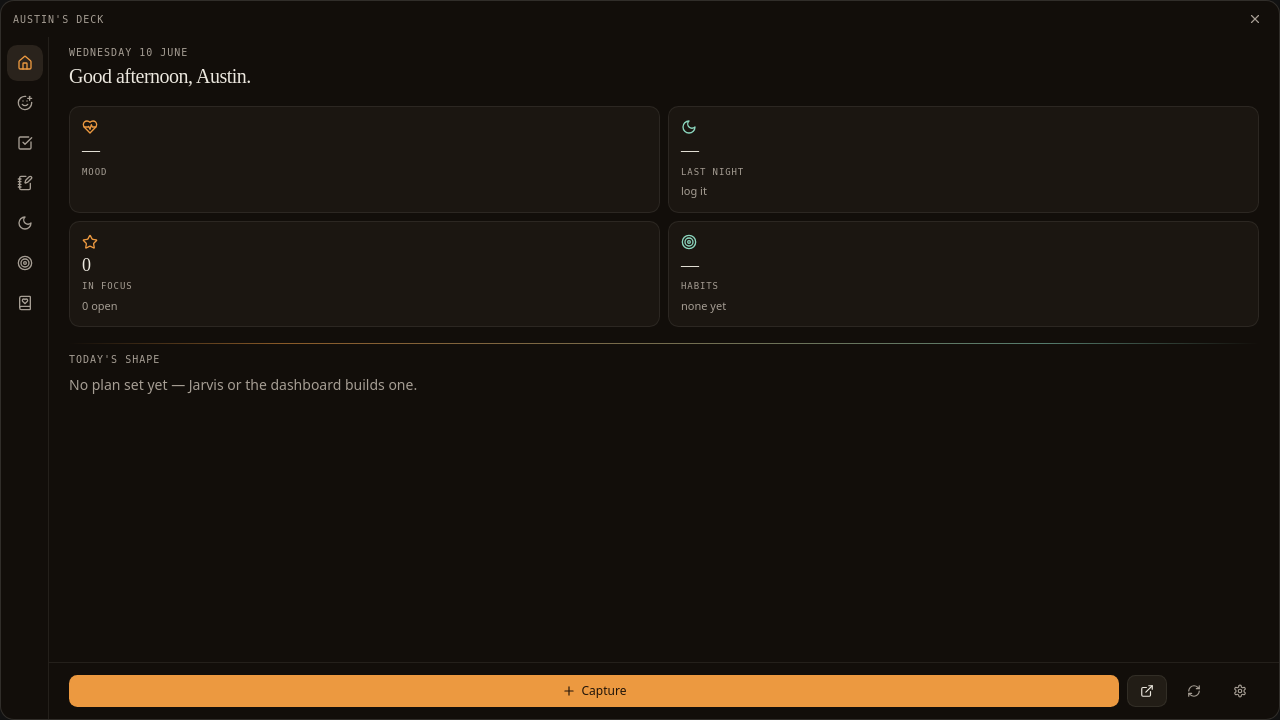
Test: Deck › renders the Habits section when Habits is selected
Click the button named "Habits".
click(24, 263)  # box [6,245,42,281]
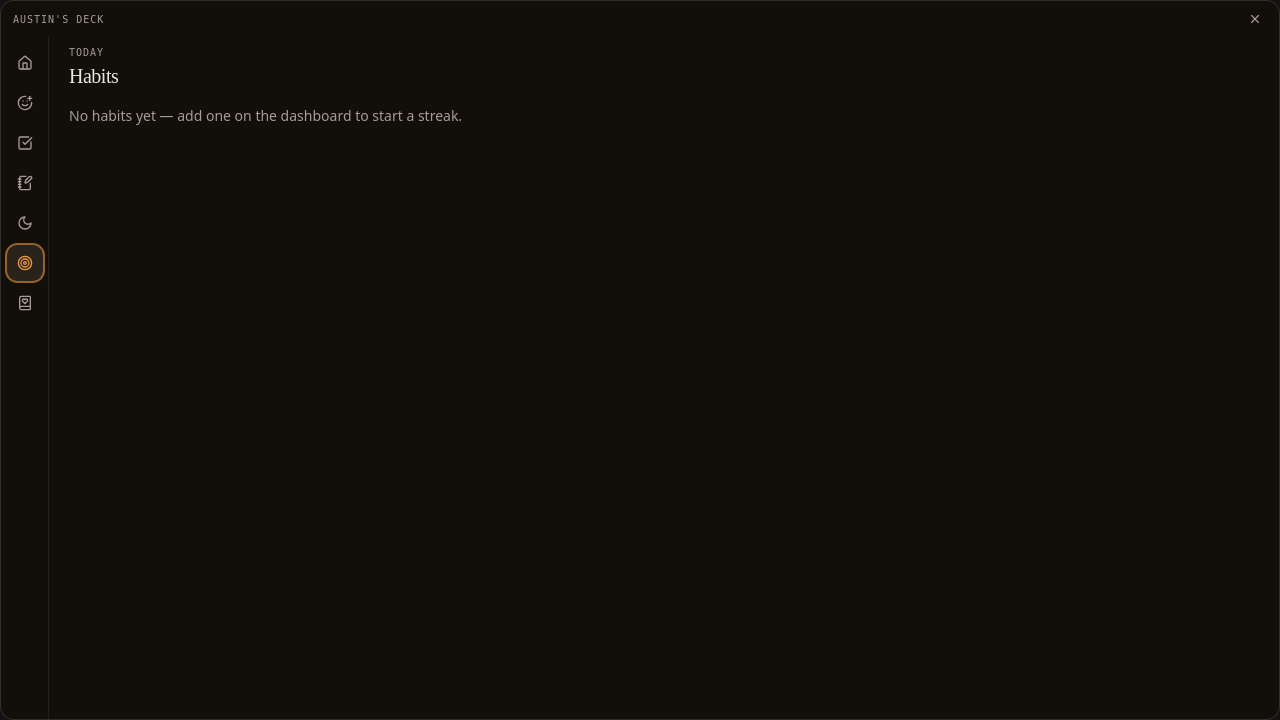
Expected: the heading "Habits" is shown, [69,65,118,87]
